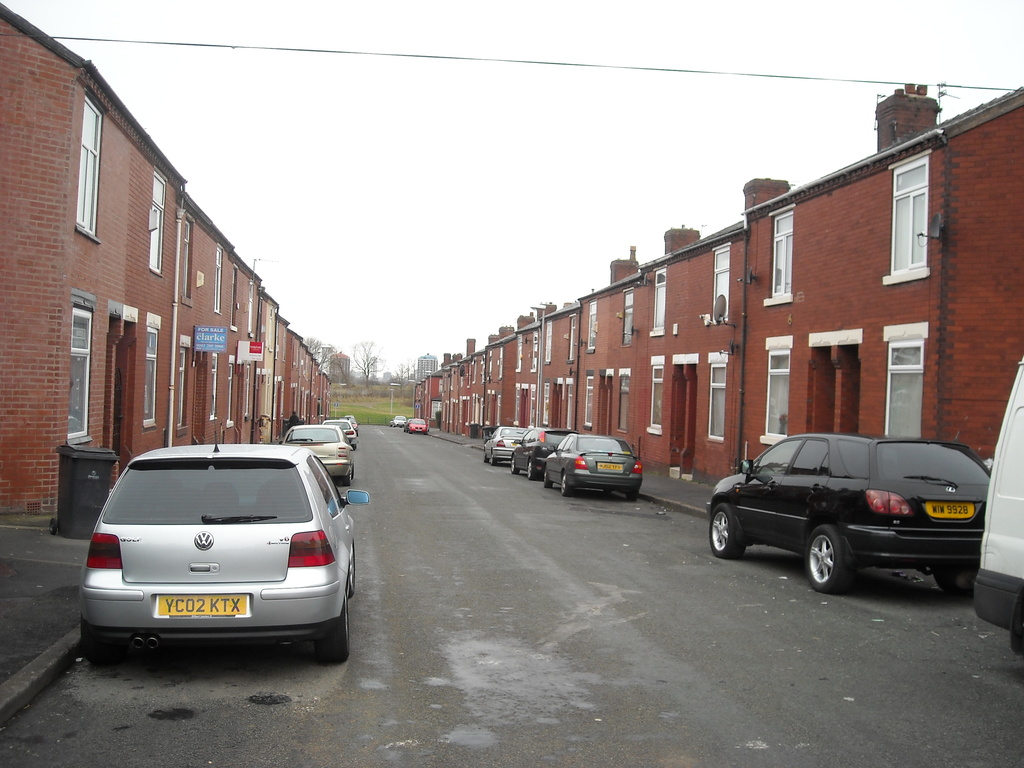license plate: (159, 593, 252, 618), (932, 503, 974, 517), (599, 463, 624, 474)
